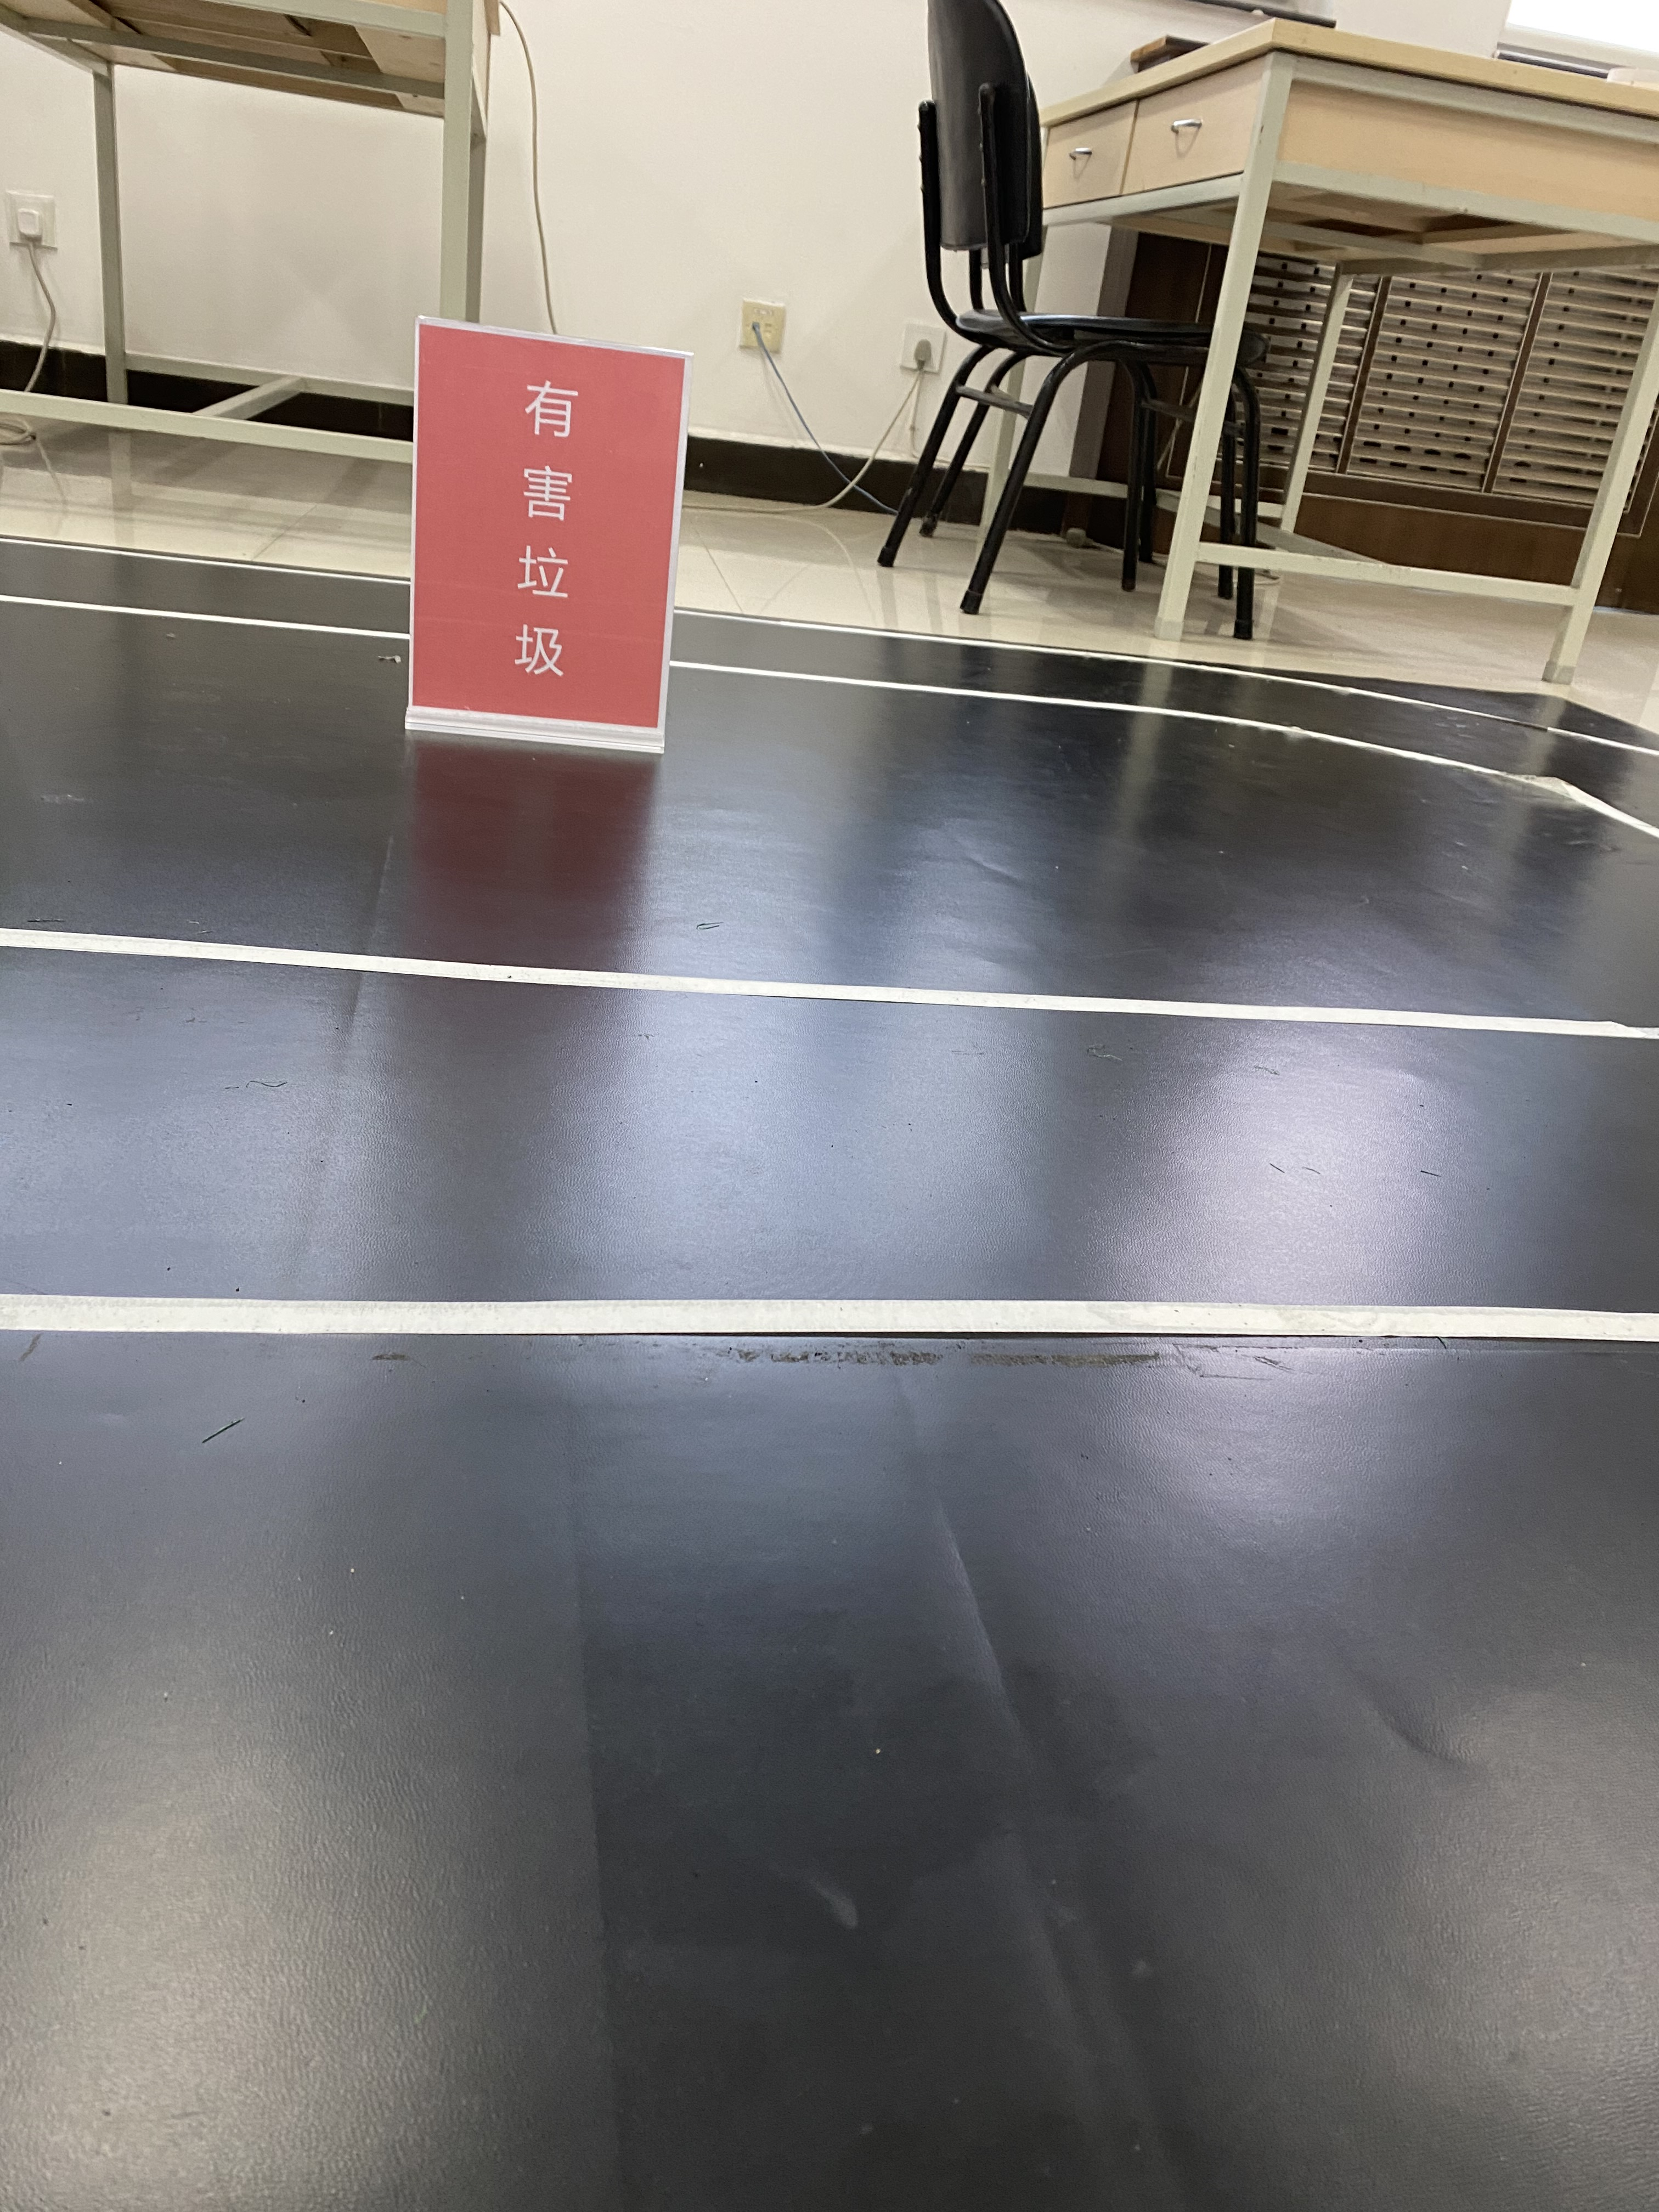red: (441, 357, 653, 700)
